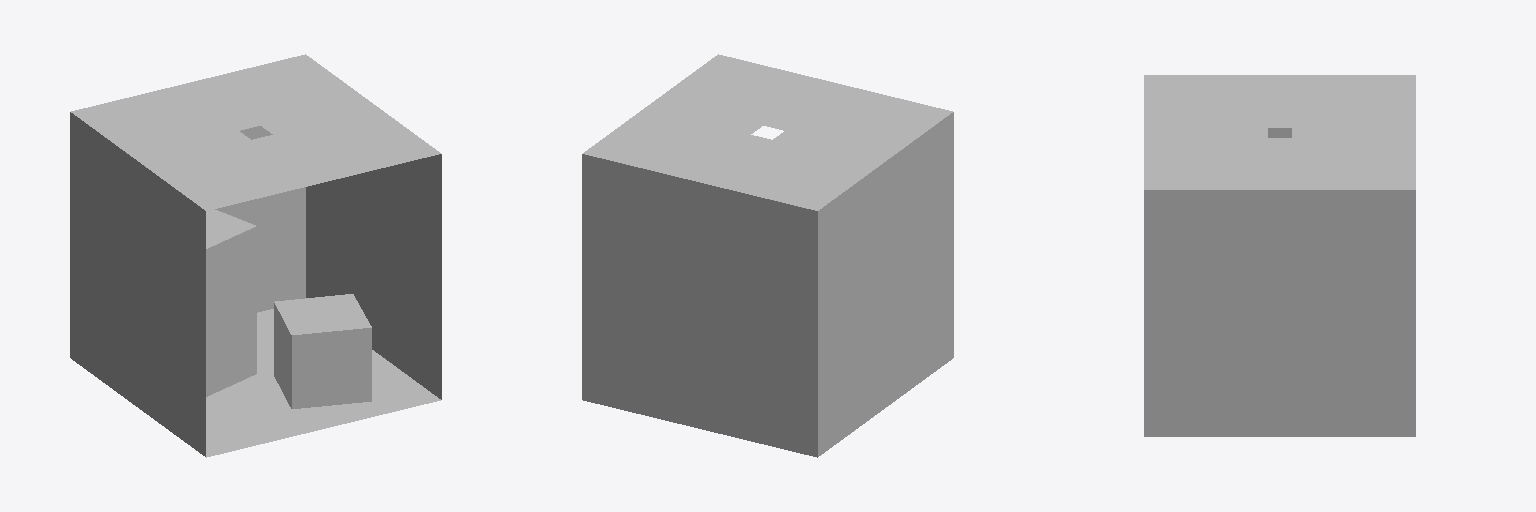
File: cornell_box.obj
3 renders of one model, left to right at view 1: azimuth 30°, elevation 25°; view 2: azimuth 150°, elevation 25°; view 3: azimuth 270°, elevation 25°, orthographic.
Visible parts, largest first — view 1: cornell_box.lwo; view 2: cornell_box.lwo; view 3: cornell_box.lwo.
Part boxes in pixels (x1,y1,x2,y2): cornell_box.lwo: (70, 54, 441, 457); cornell_box.lwo: (582, 54, 953, 457); cornell_box.lwo: (1144, 75, 1415, 436).
Size of the model in its own units: 5.5 by 5.5 by 5.5.